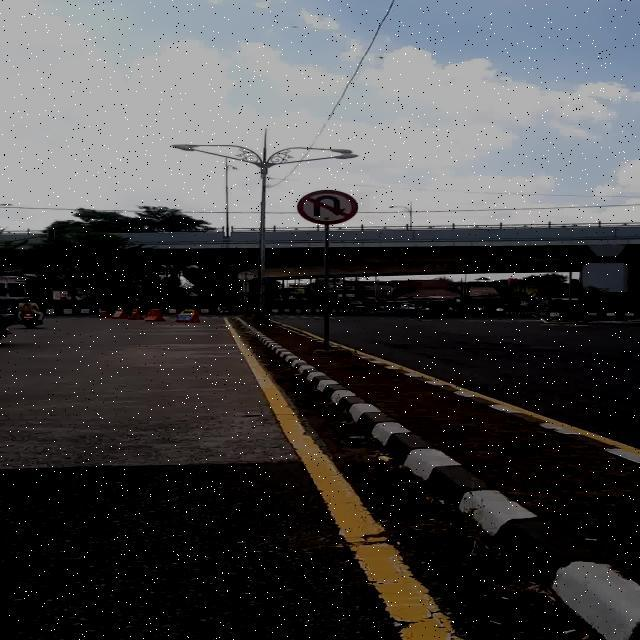Dilarang Putar Balik: (297, 190, 358, 224)
